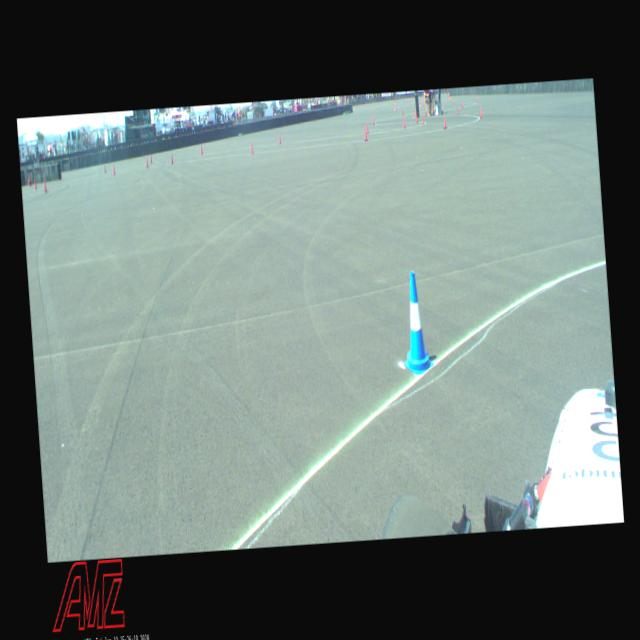blue_cone: (396, 270, 434, 375)
orange_cone: (442, 115, 446, 129), (402, 116, 406, 128), (363, 128, 367, 140), (420, 112, 424, 124), (43, 180, 47, 191), (414, 111, 418, 122), (479, 106, 482, 118), (145, 156, 148, 168), (170, 152, 173, 164), (250, 142, 253, 154), (112, 163, 115, 174), (456, 104, 459, 114), (200, 144, 203, 154), (149, 154, 152, 162), (366, 121, 368, 133), (34, 178, 36, 189), (278, 133, 280, 144), (372, 115, 374, 124), (402, 106, 404, 115), (104, 164, 106, 172), (460, 100, 462, 106)
